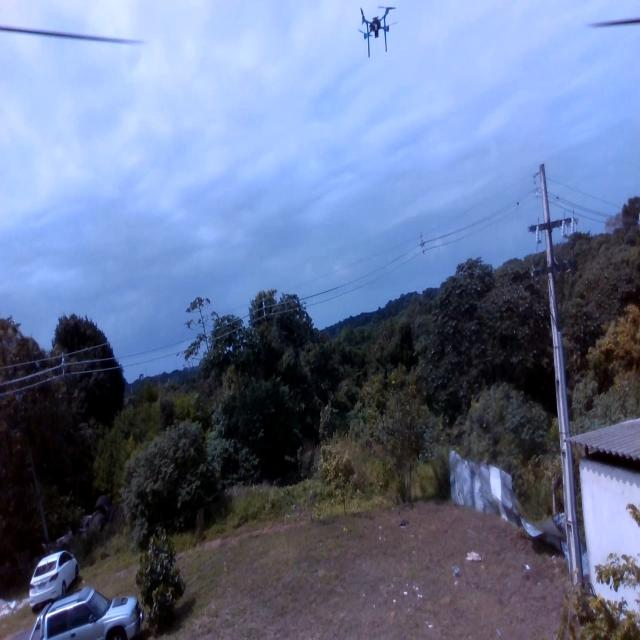-uav-: (344, 2, 406, 68)
